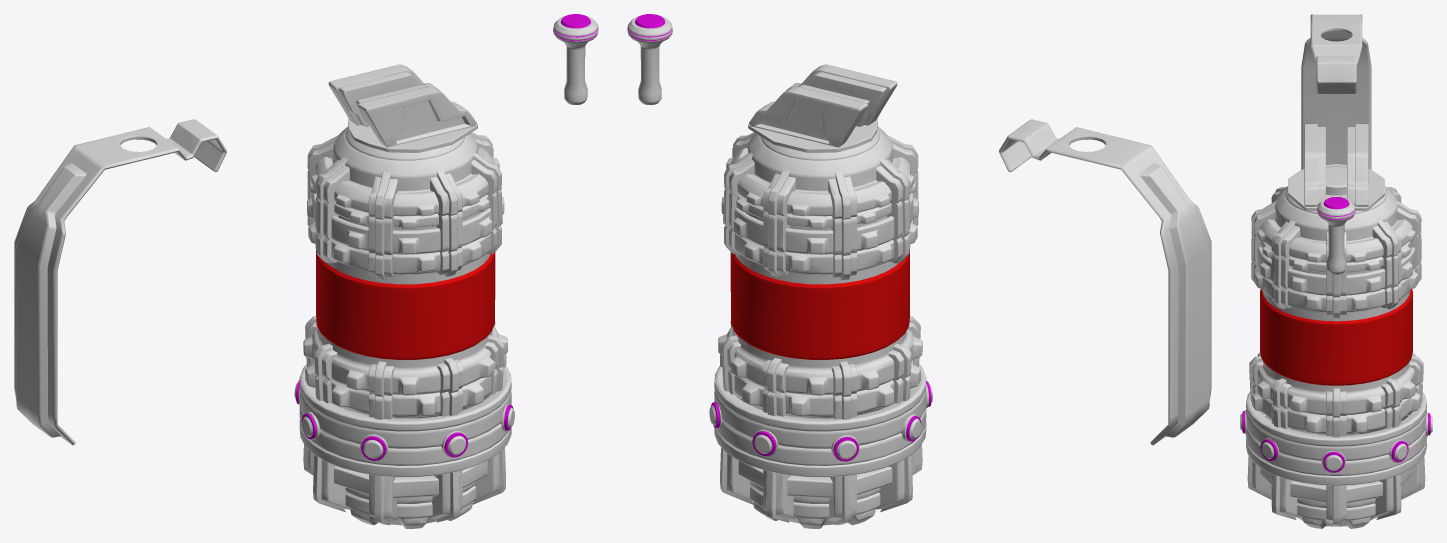
The model's file is WeaponExplosiveGrenade_Exploded.fbx.
The picture shows the model from 3 angles, left to right: view 1: azimuth 30°, elevation 25°; view 2: azimuth 150°, elevation 25°; view 3: azimuth 270°, elevation 25°; orthographic projection. The views are drawn at different scales.
Parts seen in each view (by area): view 1: Basse Silinder, Grenadething, Neck, Head, HeadExtra, AutomaticSafetypin, FunnyCircles; view 2: Basse Silinder, Grenadething, Neck, Head, HeadExtra, AutomaticSafetypin, FunnyCircles; view 3: Basse Silinder, Grenadething, Head, Neck, AutomaticSafetypin, FunnyCircles.
Boxes of the visible parts, x1,y1,x2,y2 form: Basse Silinder: [299, 126, 511, 528]; Grenadething: [303, 132, 506, 525]; Neck: [328, 64, 477, 152]; Head: [14, 119, 226, 445]; HeadExtra: [15, 163, 86, 437]; AutomaticSafetypin: [553, 14, 598, 104]; FunnyCircles: [294, 380, 514, 460]; Basse Silinder: [714, 126, 926, 528]; Grenadething: [720, 132, 922, 525]; Neck: [748, 64, 897, 152]; Head: [999, 119, 1211, 445]; HeadExtra: [1139, 163, 1210, 437]; AutomaticSafetypin: [627, 14, 672, 104]; FunnyCircles: [709, 381, 932, 461]; Basse Silinder: [1246, 166, 1426, 528]; Grenadething: [1247, 187, 1425, 526]; Head: [1301, 14, 1371, 169]; Neck: [1288, 123, 1384, 210]; AutomaticSafetypin: [1317, 197, 1355, 274]; FunnyCircles: [1240, 410, 1432, 472].
Size of the model in its own units: 17.02 by 5.84 by 12.63.
